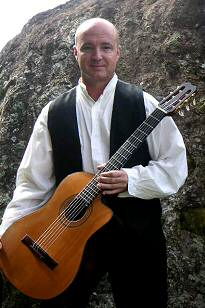guitar: (1, 79, 198, 301)
